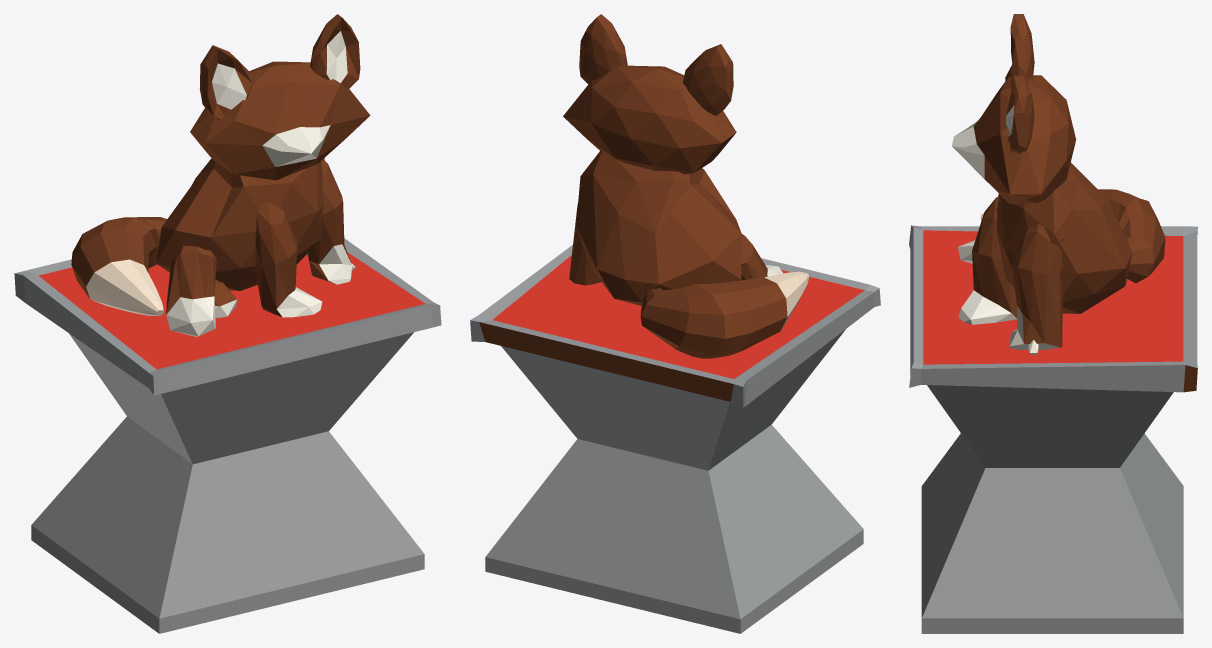
File: foxstatueblendBrown.fbx
3 views of the same model, side by side, from view 1: azimuth 30°, elevation 25°; view 2: azimuth 150°, elevation 25°; view 3: azimuth 270°, elevation 25° (orthographic). The views are drawn at different scales.
Parts seen in each view (by area): view 1: Icosphere.001; view 2: Icosphere.001; view 3: Icosphere.001.
Boxes of the visible parts, x1,y1,x2,y2 form: Icosphere.001: (14,14,441,633); Icosphere.001: (470,14,880,633); Icosphere.001: (909,14,1197,633).
Size of the model in its own units: 1449 by 2543 by 1234.
